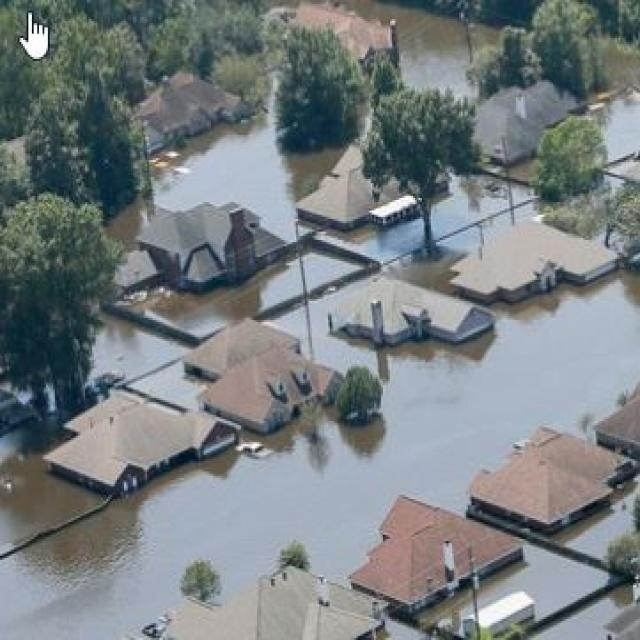flooded_areas: (18, 9, 622, 623)
